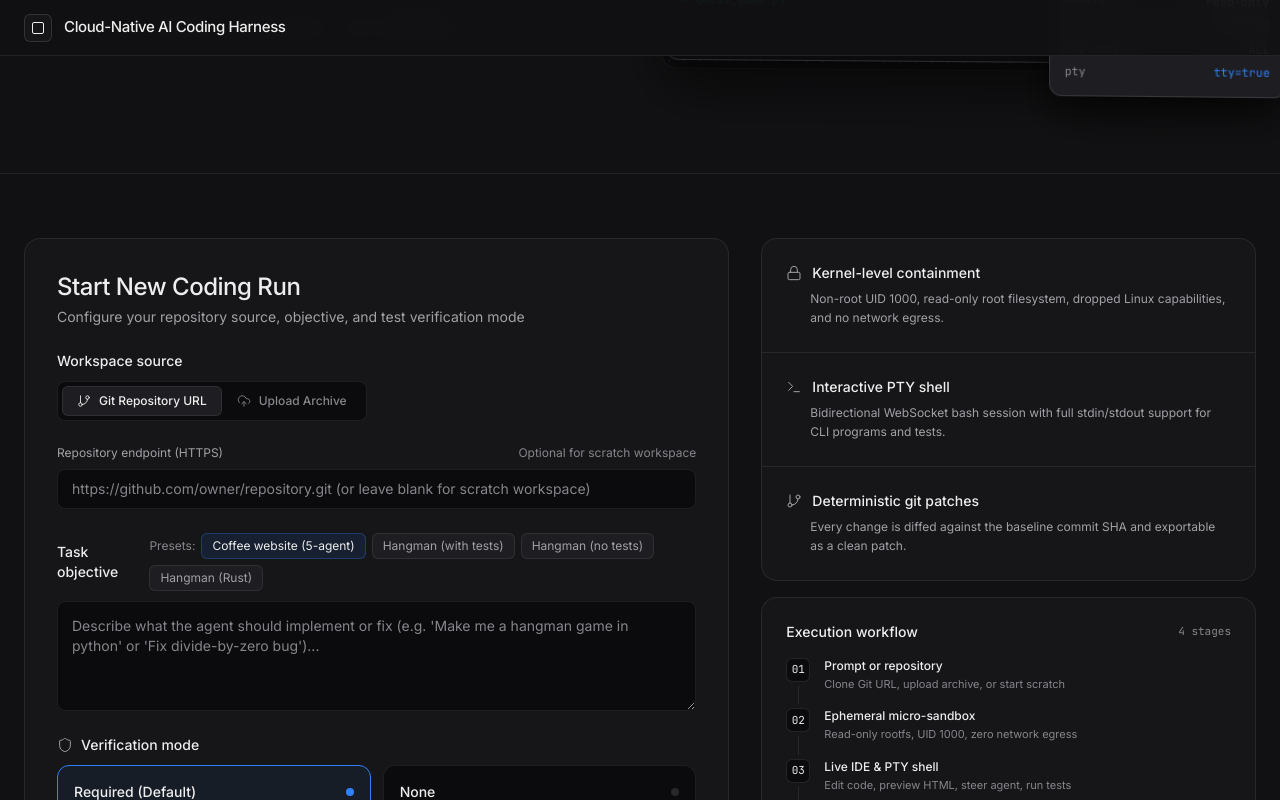
Scenario: SessionManager › should toggle between Git URL and Archive file upload
The width and height of the screenshot is (1280, 800).
(page scrolled)
Check: the field with placeholder "https://github.com" is shown, box [57,468,696,508]
Click the button "Upload Archive". click: (292, 400)
box: [222,386,362,416]
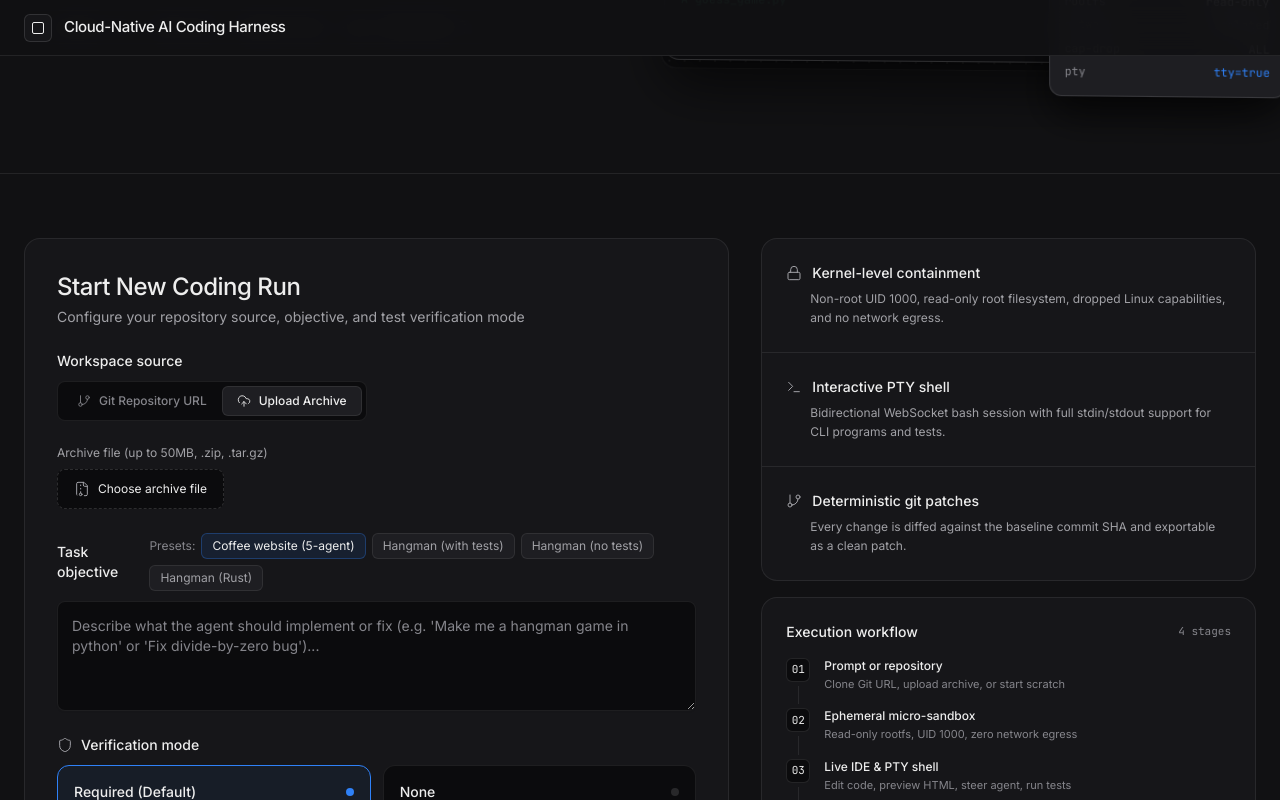
Check: the field with placeholder "https://github.com" is not shown
Check: the text "Choose archive file" is shown, box [98,480,207,496]
